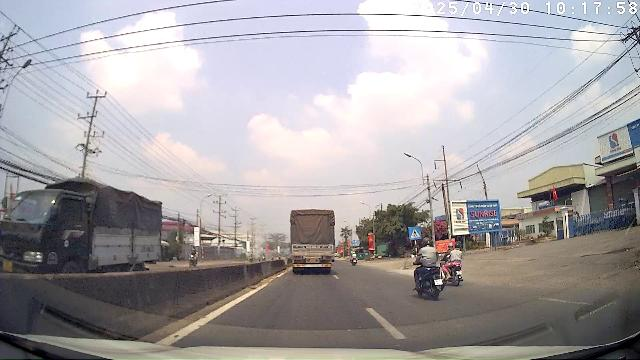423a-duong-nguoi-di-bo-sang-ngang-1: (409, 227, 421, 239)
